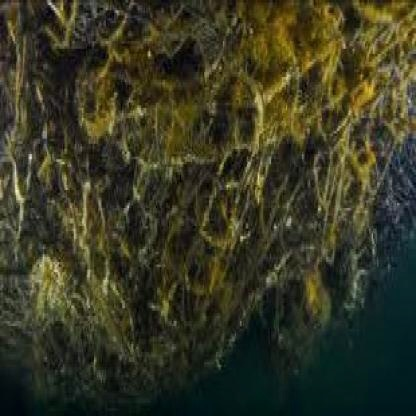net: (42, 8, 393, 331)
